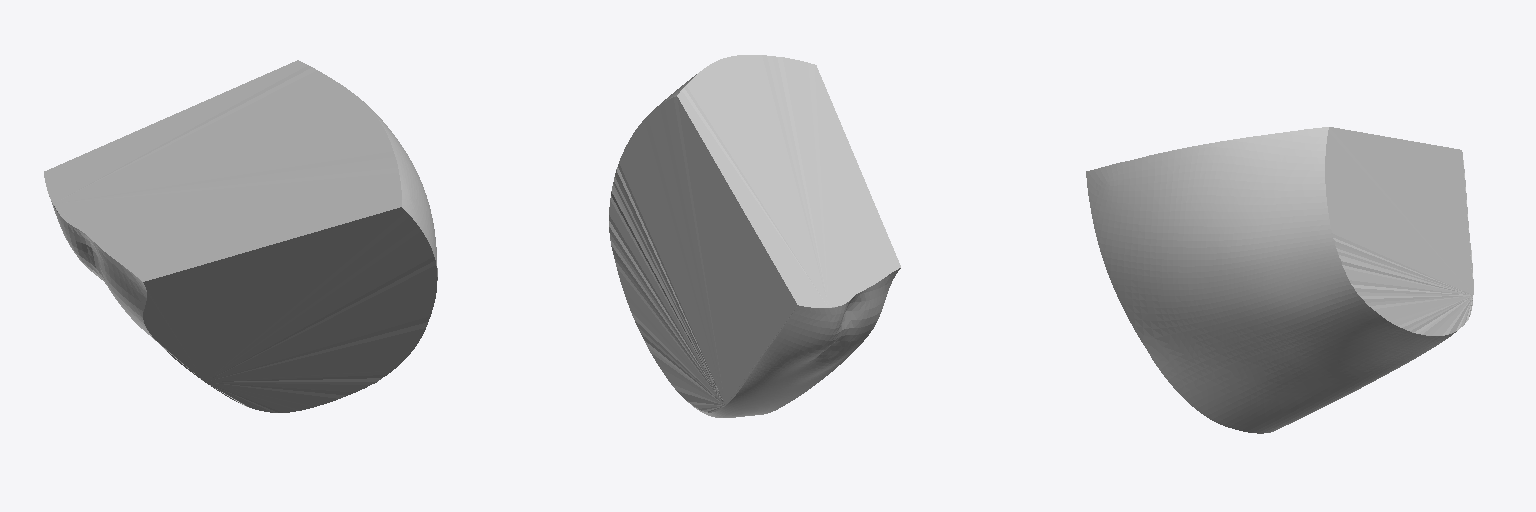
The model's file is liver1.obj.
3 views of the same model, side by side, from view 1: azimuth 30°, elevation 25°; view 2: azimuth 150°, elevation 25°; view 3: azimuth 270°, elevation 25° (orthographic).
Parts seen in each view (by area): view 1: liver.001; view 2: liver.001; view 3: liver.001.
Boxes of the visible parts, x1=… form: liver.001: x1=44, y1=60, x2=437, y2=412; liver.001: x1=609, y1=55, x2=900, y2=417; liver.001: x1=1086, y1=127, x2=1473, y2=433.
Bounding box in the file's own units: 0.0617 × 0.0713 × 0.0775.